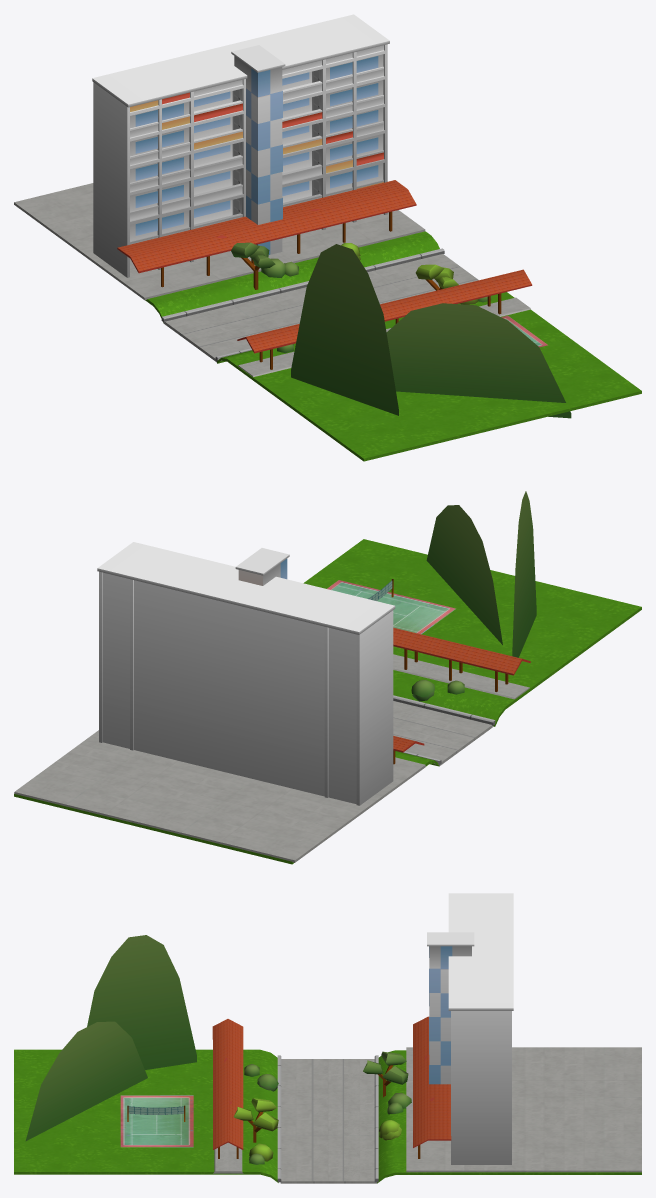
Rendered from Level 1 Chunk 2 V3.fbx.
The picture shows the model from 3 angles, top to bottom: view 1: azimuth 30°, elevation 25°; view 2: azimuth 150°, elevation 25°; view 3: azimuth 270°, elevation 25°; orthographic projection. The views are drawn at different scales.
Parts seen in each view (by area): view 1: pCube15488, pCube15452, pasted__pasted__pCube5622, pasted__pCube5740, pCube15446, pCube15719, pCube15448, pCube15444, pCube15735, pCube15445, pCube15736, pCube15449 (+1 smaller); view 2: pCube15488, pCube15446, pCube15452, pasted__pasted__pCube5622, pCube15448, pasted__pCube5740, pCube15749, pCube15735, pCube15736, pCube15444, pCube15450; view 3: pCube15488, pCube15446, pCube15452, pCube15448, pasted__pCube5740, pasted__pasted__pCube5622, pCube15749, pCube15735, pCube15719, pCube15444, pCube15449, pCube15447 (+3 smaller).
Part boxes in pixels (x1,y1,x2,y2): pCube15488: (92,14,389,277); pCube15452: (217,292,641,461); pasted__pasted__pCube5622: (386,303,571,418); pasted__pCube5740: (291,244,398,415); pCube15446: (14,183,425,300); pCube15719: (117,180,416,273); pCube15448: (163,254,478,362); pCube15444: (145,231,439,322); pCube15735: (237,269,532,353); pCube15445: (161,248,444,322); pCube15736: (238,297,530,377); pCube15449: (231,242,275,289); pCube15488: (97,542,395,805); pCube15446: (14,730,425,862); pCube15452: (303,539,641,726); pasted__pasted__pCube5622: (426,505,502,644); pCube15448: (393,701,492,766); pasted__pCube5740: (512,491,536,657); pCube15749: (327,579,455,634); pCube15735: (393,627,530,675); pCube15736: (393,654,529,699); pCube15444: (14,751,439,864); pCube15450: (393,695,495,725); pCube15488: (427,893,513,1164); pCube15446: (406,1047,641,1172); pCube15452: (14,1049,278,1182); pCube15448: (280,1059,376,1183); pasted__pCube5740: (87,935,196,1069); pasted__pasted__pCube5622: (25,1021,147,1141); pCube15749: (120,1095,193,1147); pCube15735: (212,1019,243,1149); pCube15719: (413,1016,451,1147); pCube15444: (377,1050,641,1183); pCube15449: (363,1051,408,1097); pCube15447: (233,1098,278,1142).
Size of the model in its own units: 12.53 by 8.62 by 26.56.
Materials: 2 (2 with a texture image).
